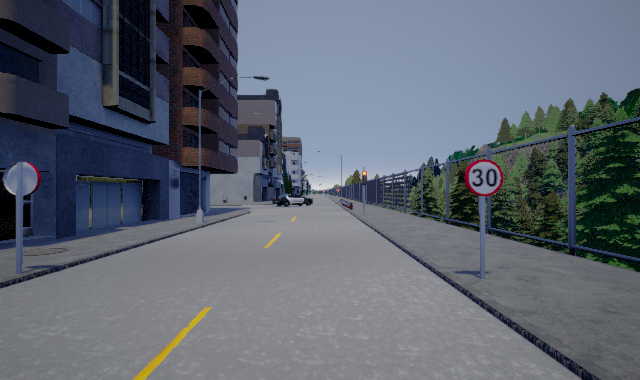traffic_light: (361, 171, 367, 184)
traffic_sign: (464, 159, 503, 196)
vehicle: (272, 193, 313, 207)
